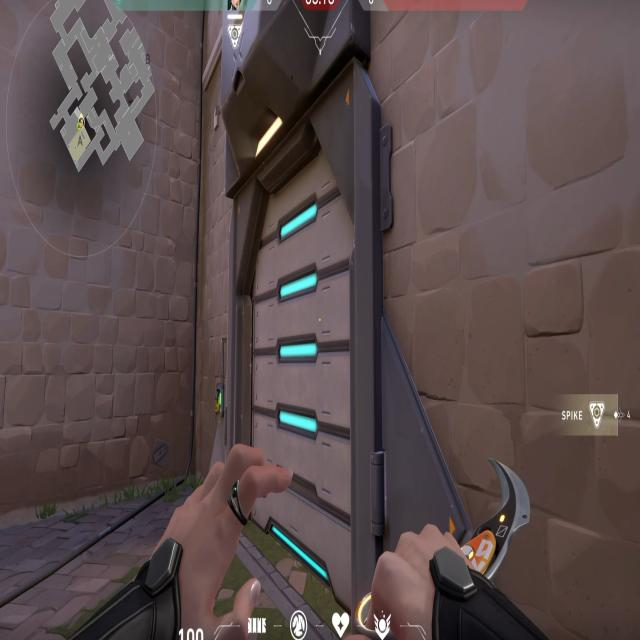A_Door: (220, 71, 383, 640)
